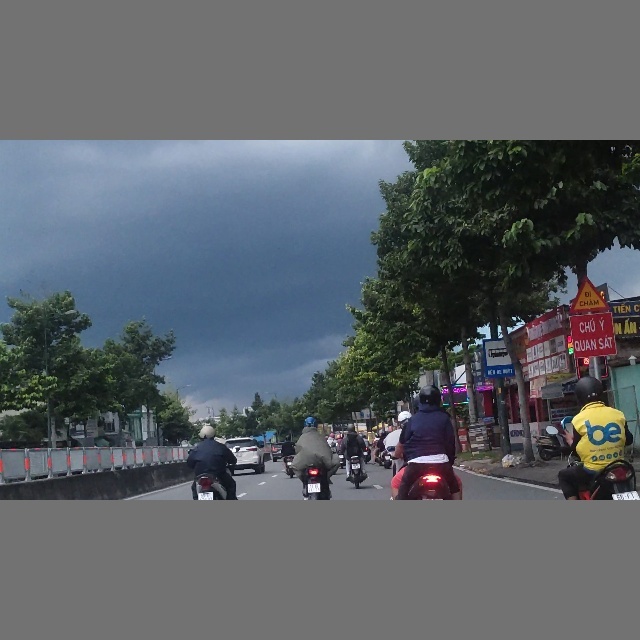I.434a: (481, 337, 516, 379)
W.245a: (570, 277, 610, 313)
